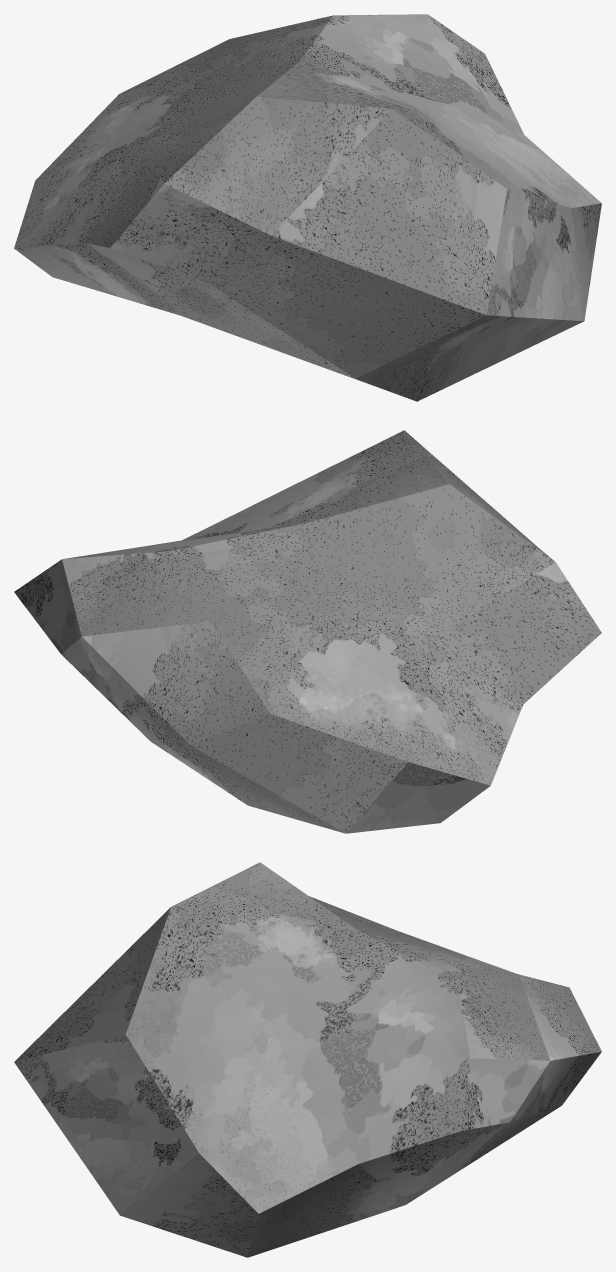
Rendered from filler rock 1.fbx.
The picture shows the model from 3 angles, top to bottom: view 1: azimuth 30°, elevation 25°; view 2: azimuth 150°, elevation 25°; view 3: azimuth 270°, elevation 25°; orthographic projection. The views are drawn at different scales.
Visible parts, largest first — view 1: fillerrock1; view 2: fillerrock1; view 3: fillerrock1.
Boxes of the visible parts, box(x1,y1,x2,y2) form: fillerrock1: box(14, 14, 601, 401); fillerrock1: box(14, 430, 601, 833); fillerrock1: box(14, 862, 601, 1257).
Size of the model in its own units: 78.15 by 46.88 by 82.18.
